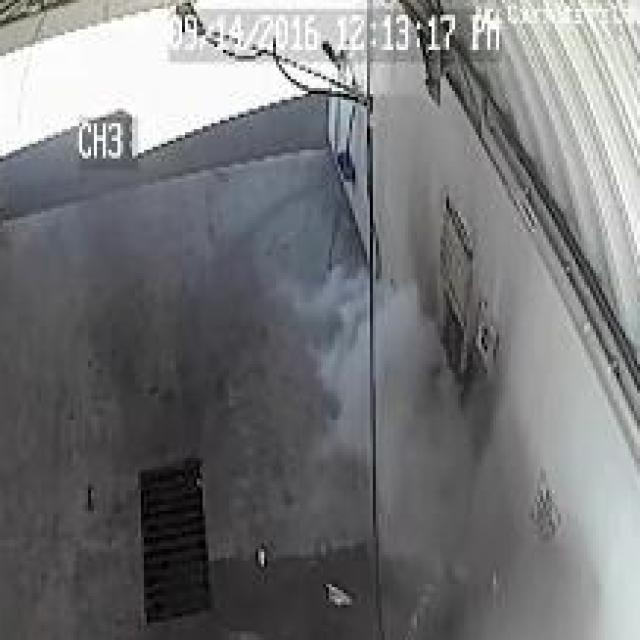fire: (320, 272, 473, 582)
